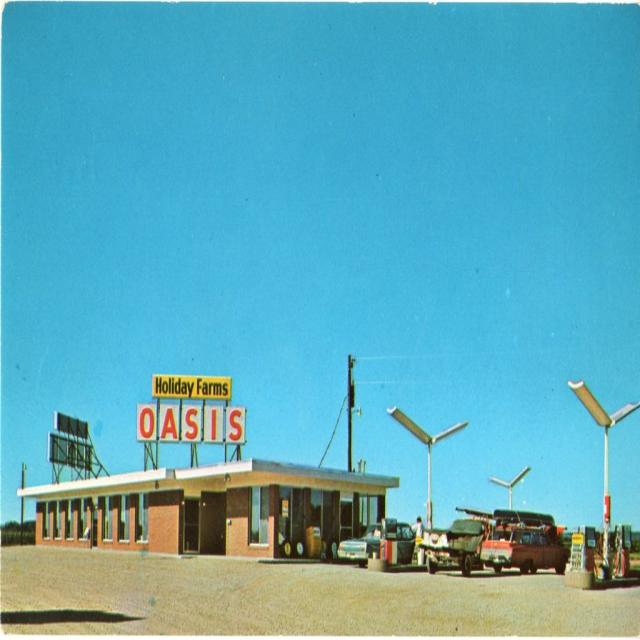car: (478, 518, 573, 577)
